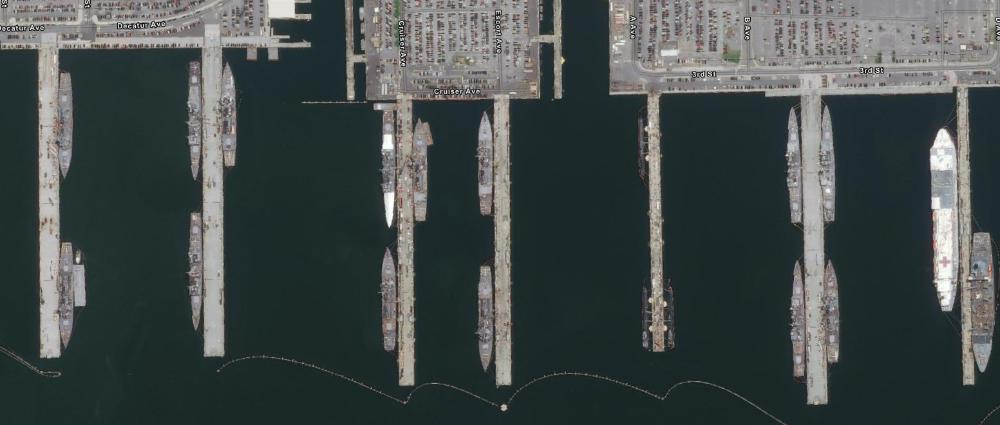destroyer: (819, 101, 845, 224), (185, 57, 206, 181), (185, 211, 206, 335), (789, 256, 809, 380), (786, 106, 806, 228)
fregate: (475, 109, 499, 220), (221, 59, 243, 168), (57, 241, 78, 351), (380, 249, 401, 356), (412, 112, 432, 223), (478, 260, 497, 375), (823, 261, 843, 363), (57, 71, 75, 181)
submarine: (663, 277, 680, 352), (636, 114, 649, 184), (640, 287, 651, 354)
tender: (969, 228, 1000, 379)
